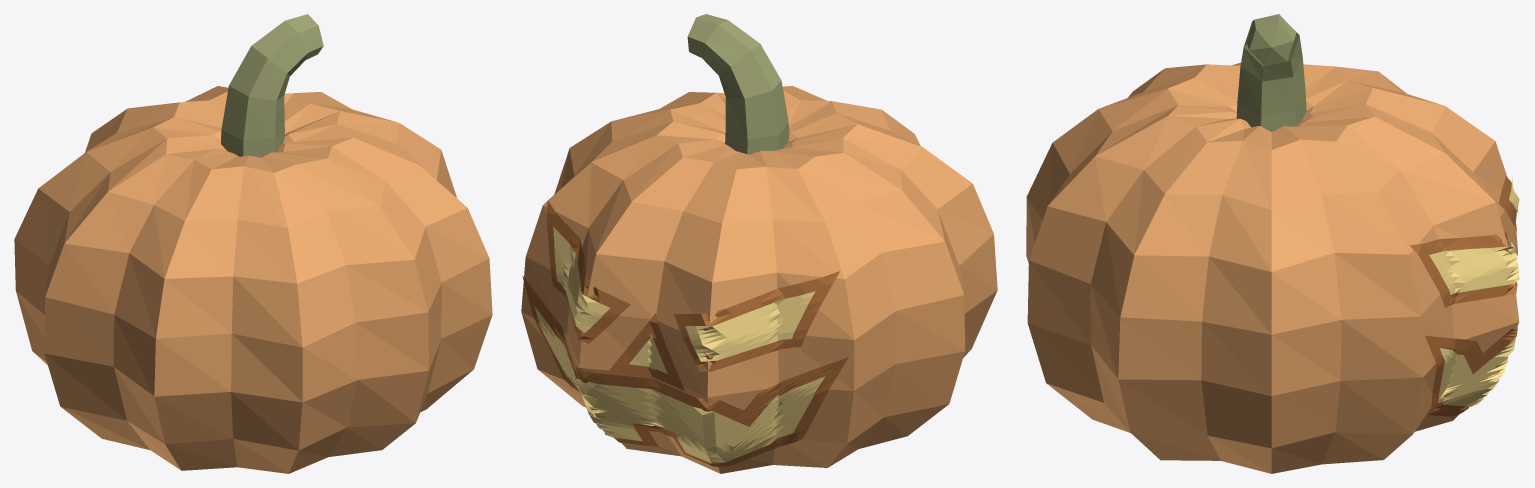
Rendered from JackOLantern.glb.
3 views of the same model, side by side, from view 1: azimuth 30°, elevation 25°; view 2: azimuth 150°, elevation 25°; view 3: azimuth 270°, elevation 25° (orthographic). The views are drawn at different scales.
Visible parts, largest first — view 1: JackBody, JackStem; view 2: JackBody, JackGlow, JackRim, JackStem; view 3: JackBody, JackStem, JackGlow, JackRim.
Boxes of the visible parts, x1,y1,x2,y2 form: JackBody: [14, 86, 492, 473]; JackStem: [221, 14, 323, 157]; JackBody: [521, 86, 997, 473]; JackGlow: [534, 227, 825, 463]; JackRim: [522, 200, 848, 466]; JackStem: [687, 14, 789, 154]; JackBody: [1026, 62, 1519, 473]; JackStem: [1236, 14, 1306, 131]; JackGlow: [1429, 177, 1519, 406]; JackRim: [1410, 174, 1517, 416].
Bounding box in the file's own units: 2.35 × 2.11 × 2.24.
